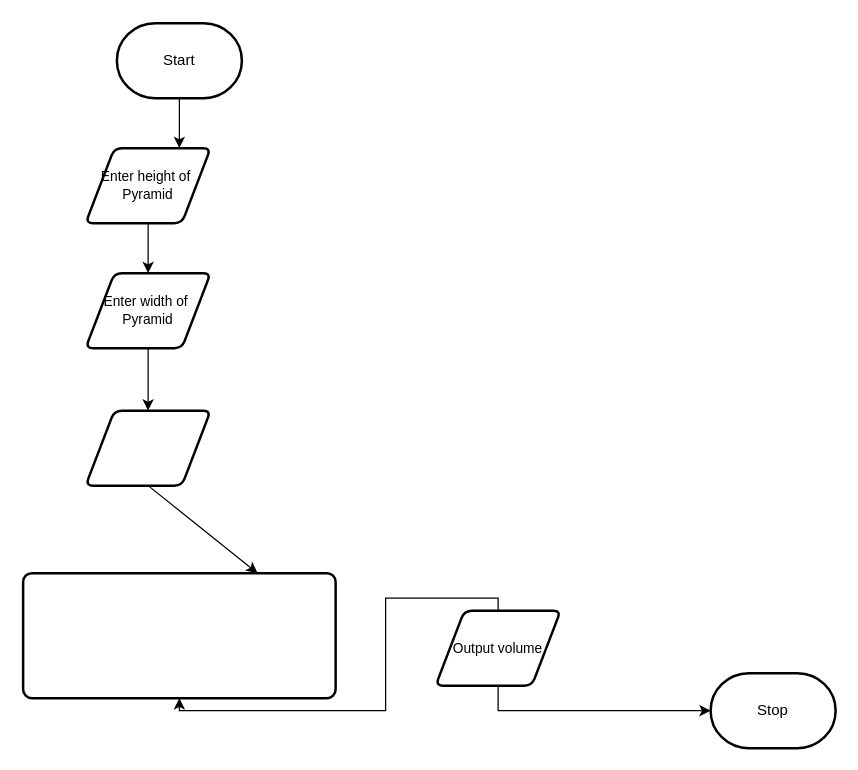
Image size: 858x770. Some labels were removed from this diagram. Each missing label, with the centre of its shape:
Enter length of Pyramid: the point at 147,447
volume= length * width * height /3: the point at 178,635
